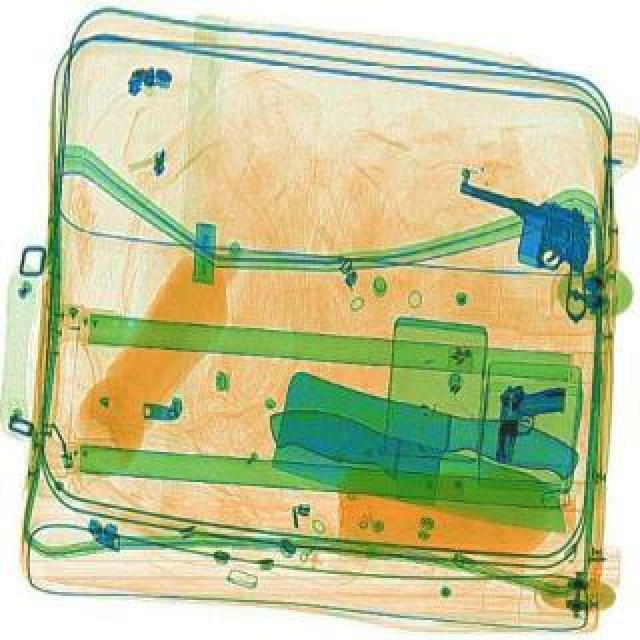gun: (434, 184, 610, 324), (494, 380, 566, 468)
knife: (256, 366, 586, 538), (256, 378, 586, 550)
